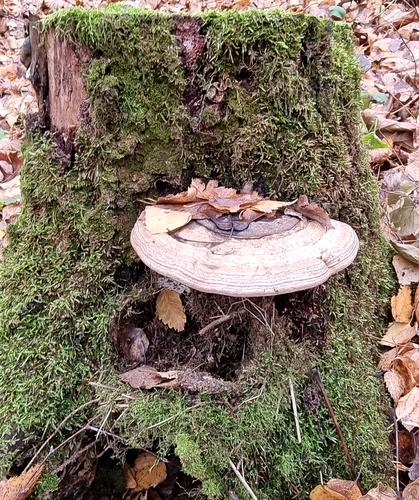Ganoderma - Fruit Body: (125, 182, 367, 308)
